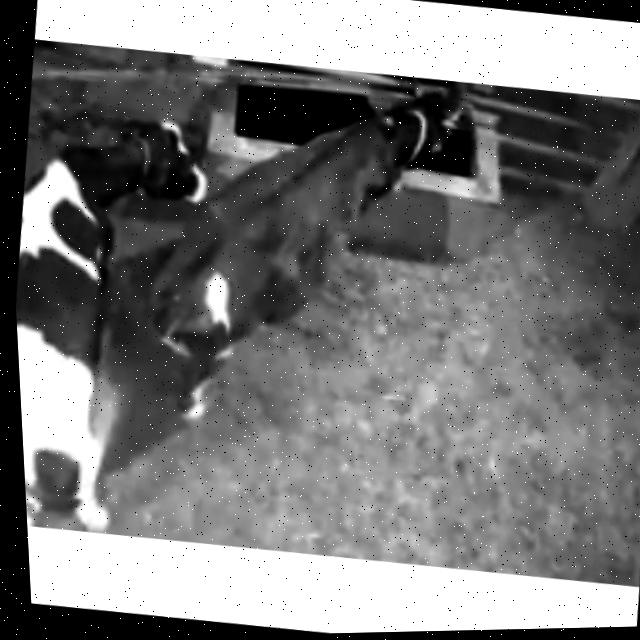drink: (311, 73, 490, 192)
